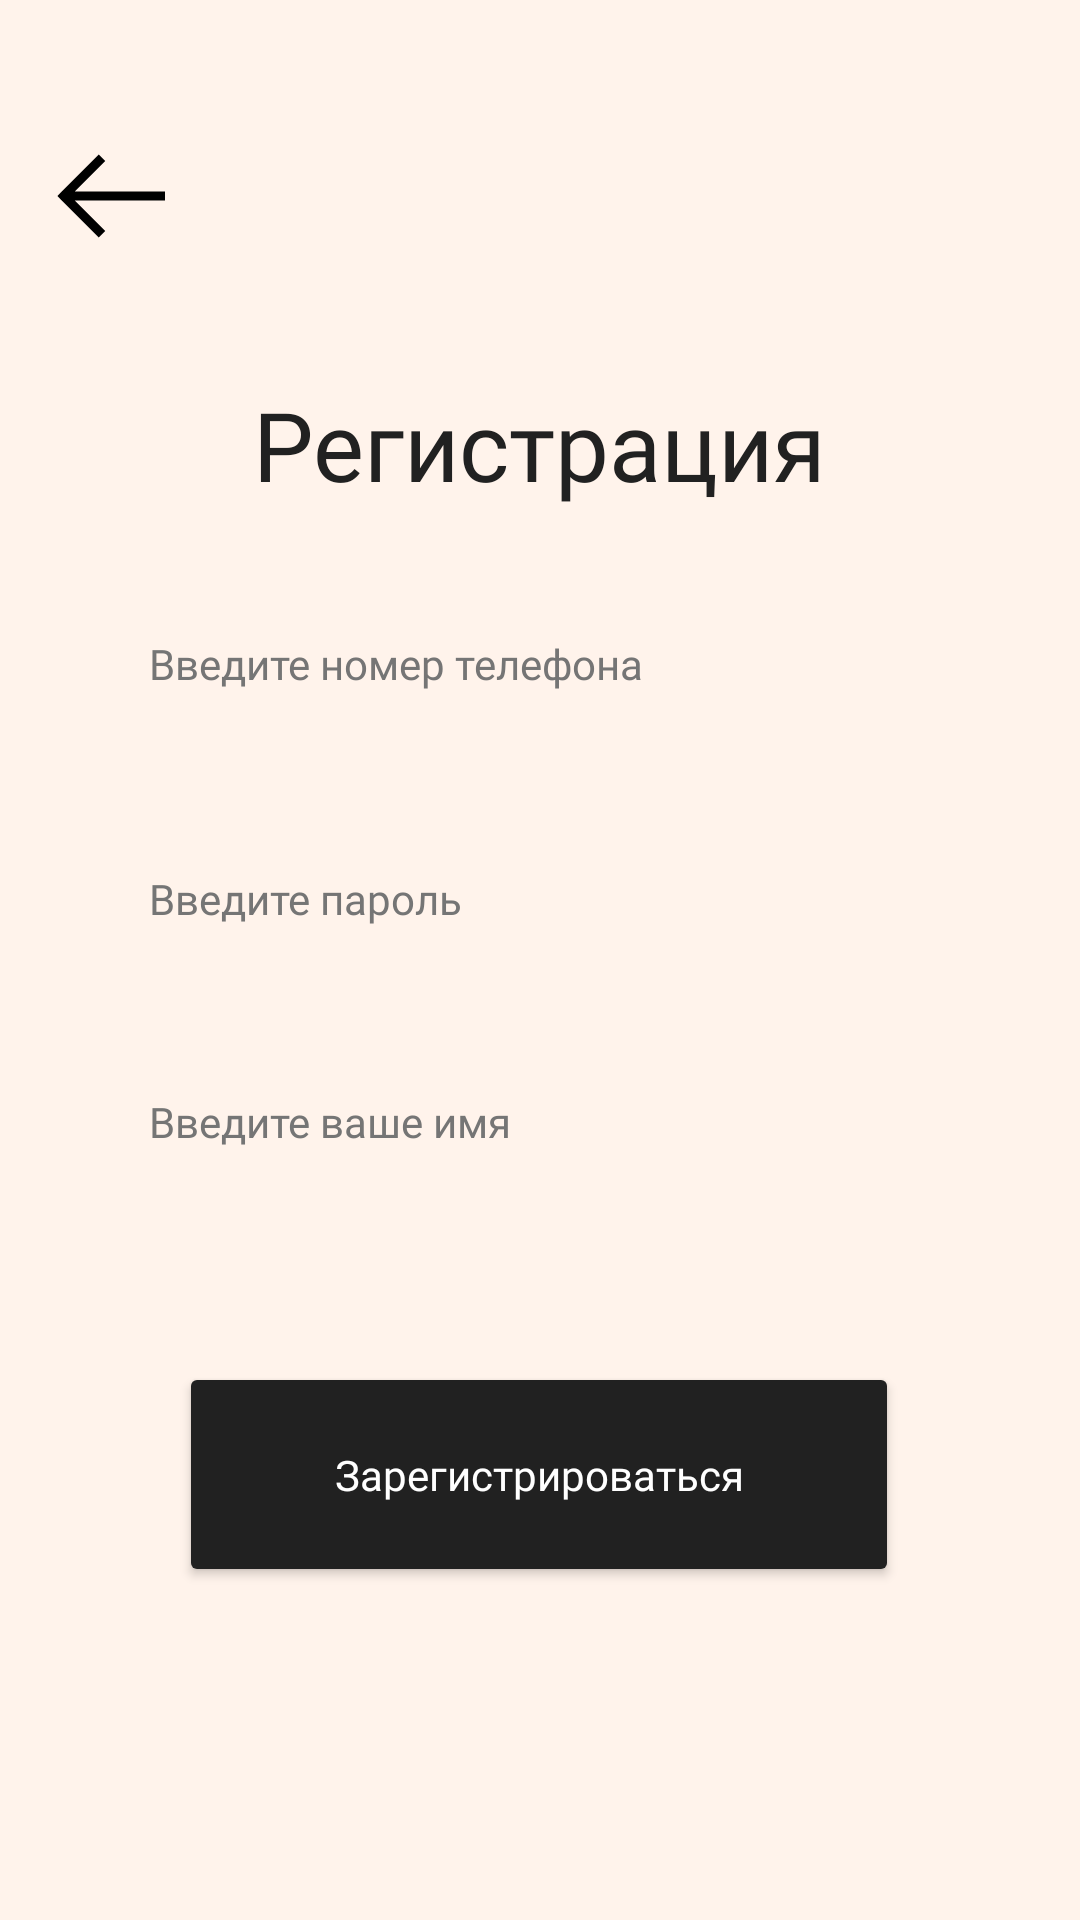

Named icons in this screenshot (1080 x 1920) and their bounding boxes, (x1, y1, x2, y2):
back: (57, 154, 165, 238)
